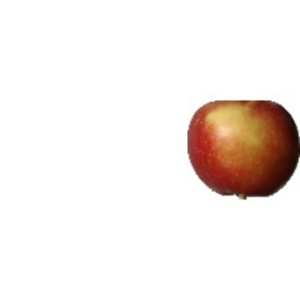maçã braeburn: (187, 97, 300, 194)
